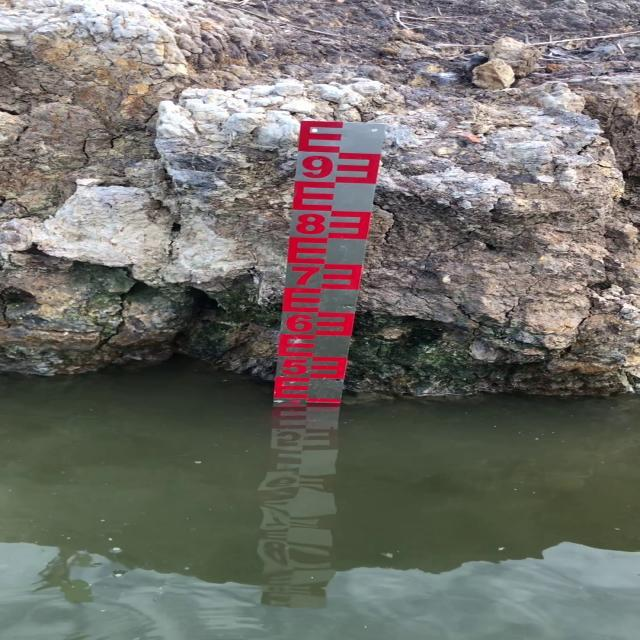ruler: (253, 111, 403, 417)
value: (297, 150, 339, 185), (292, 208, 331, 239), (287, 261, 325, 292), (279, 309, 316, 335), (277, 354, 312, 380)
